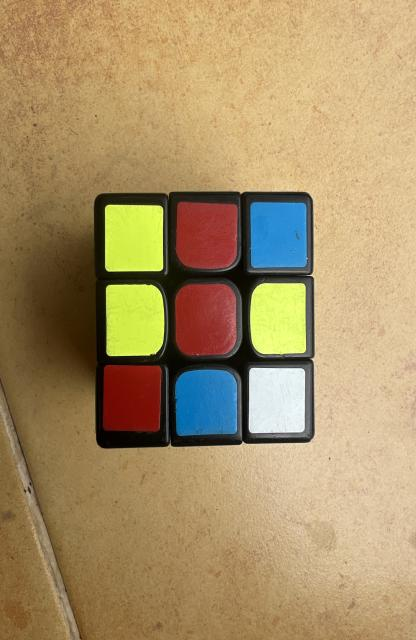Blue: (176, 369, 237, 436), (250, 202, 307, 268)
Red: (176, 284, 237, 356), (176, 201, 237, 269), (103, 365, 161, 432)
White: (249, 368, 306, 434)
Yellow: (106, 285, 165, 356), (250, 282, 307, 354), (105, 205, 164, 272)
